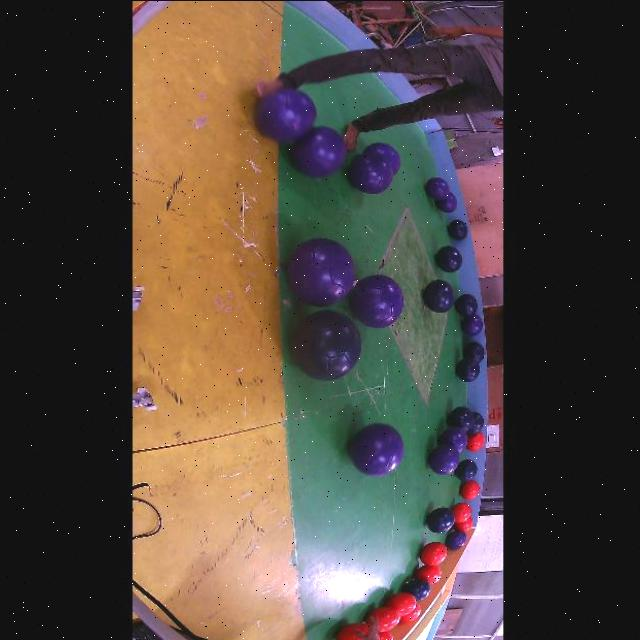B: (290, 310, 361, 380), (423, 279, 454, 313), (426, 506, 456, 532), (435, 245, 462, 271), (446, 405, 474, 430), (401, 578, 431, 600), (456, 356, 480, 381), (454, 293, 477, 316), (454, 458, 477, 480), (463, 341, 484, 362), (467, 412, 484, 434), (448, 220, 467, 239)
P: (286, 238, 355, 306), (256, 88, 316, 141), (349, 422, 404, 475), (290, 125, 346, 177), (350, 274, 403, 327), (347, 151, 394, 193), (364, 142, 400, 173), (428, 443, 459, 474), (439, 425, 467, 452), (425, 176, 449, 199), (461, 314, 483, 336), (436, 191, 457, 212), (445, 529, 467, 549)
R: (365, 605, 400, 631), (385, 591, 416, 616), (419, 541, 446, 565), (336, 622, 369, 640), (415, 564, 441, 583), (459, 479, 480, 500), (400, 603, 421, 622), (452, 501, 471, 522), (466, 431, 484, 451), (453, 516, 472, 531), (379, 630, 394, 640)
